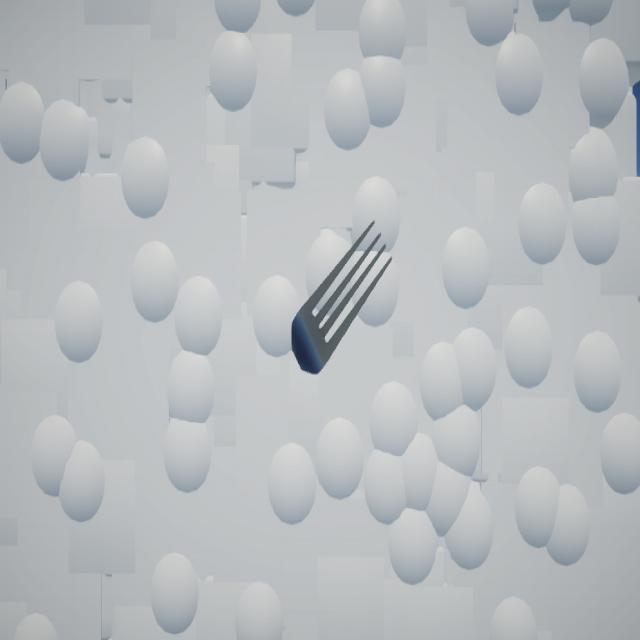top_folk: (292, 220, 394, 376)
